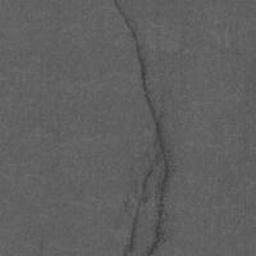Inclusion: (111, 0, 175, 256)
